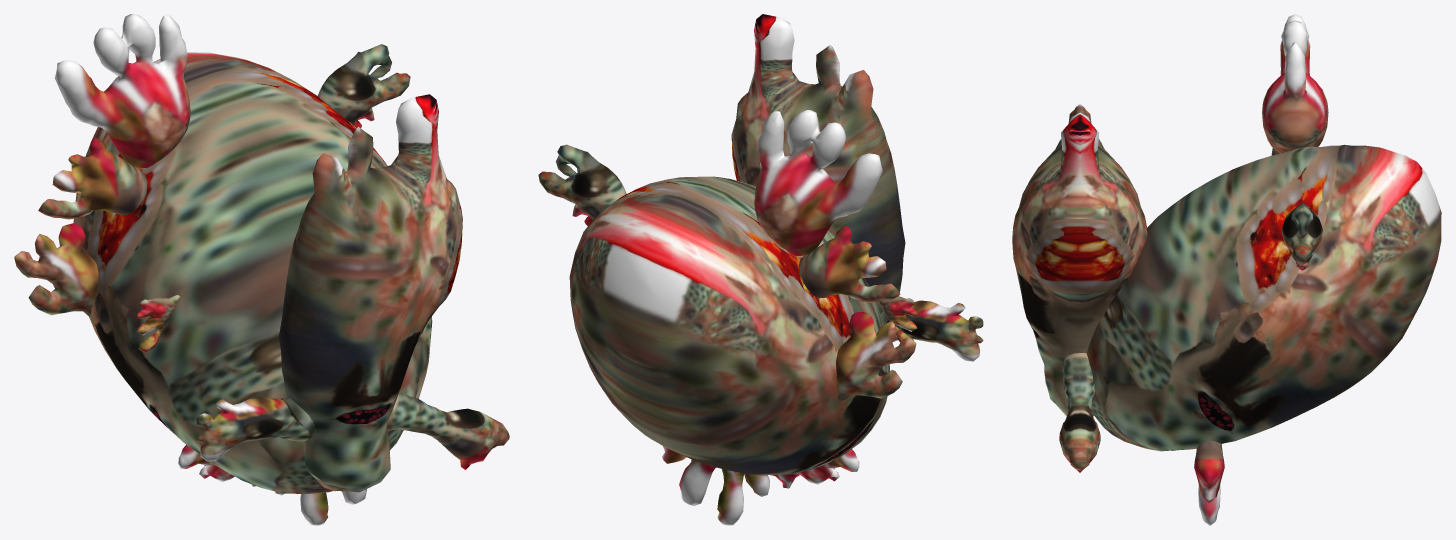
Rendered from Anagomorikun.fbx.
3 views of the same model, side by side, from view 1: azimuth 30°, elevation 25°; view 2: azimuth 150°, elevation 25°; view 3: azimuth 270°, elevation 25° (orthographic). The views are drawn at different scales.
Parts seen in each view (by area): view 1: Default; view 2: Default; view 3: Default.
Boxes of the visible parts, box(x1,y1,x2,y2) form: Default: box(14, 14, 509, 525); Default: box(538, 14, 983, 525); Default: box(1012, 14, 1441, 525).
Size of the model in its own units: 1.67 by 2.04 by 1.8.
1 material, 1 textured.
